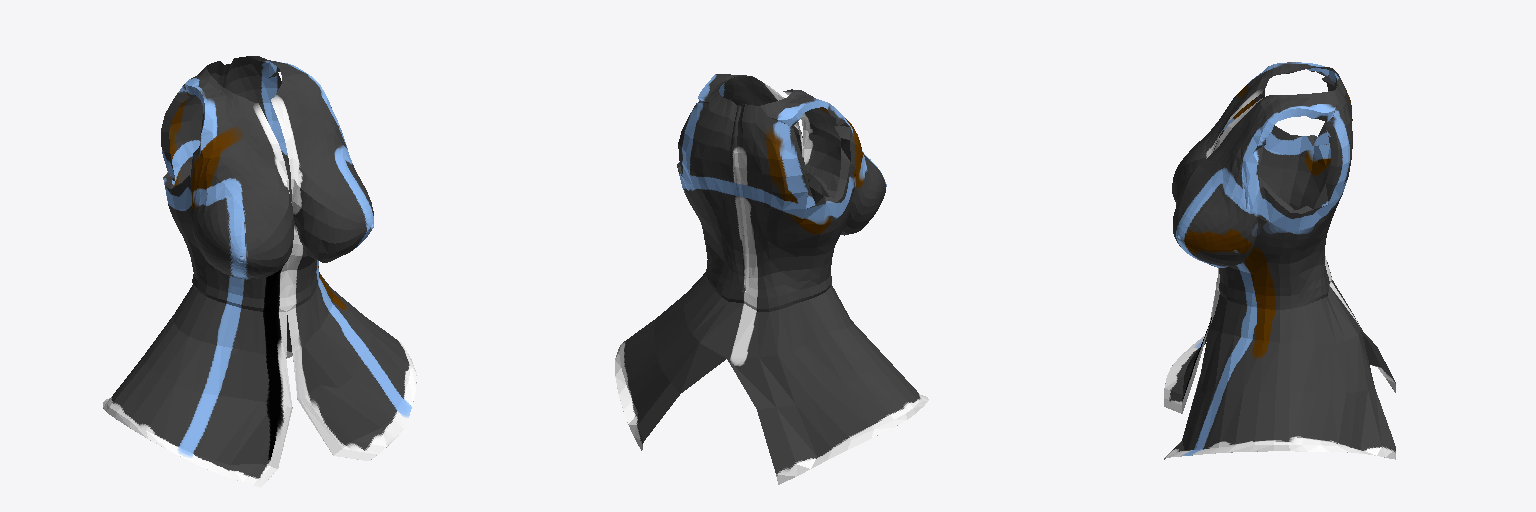
3 renders of one model, left to right at view 1: azimuth 30°, elevation 25°; view 2: azimuth 150°, elevation 25°; view 3: azimuth 270°, elevation 25°, orthographic.
Visible parts, largest first — view 1: HighPoly2 miku1:RoadKillOut_HighPoly2SmoothProxyGroup miku:RoadK; view 2: HighPoly2 miku1:RoadKillOut_HighPoly2SmoothProxyGroup miku:RoadK; view 3: HighPoly2 miku1:RoadKillOut_HighPoly2SmoothProxyGroup miku:RoadK.
Part boxes in pixels (x1,y1,x2,y2): HighPoly2 miku1:RoadKillOut_HighPoly2SmoothProxyGroup miku:RoadK: (103, 56, 416, 487); HighPoly2 miku1:RoadKillOut_HighPoly2SmoothProxyGroup miku:RoadK: (615, 74, 928, 484); HighPoly2 miku1:RoadKillOut_HighPoly2SmoothProxyGroup miku:RoadK: (1164, 62, 1395, 459).
Bounding box in the file's own units: 41.37 × 48.41 × 28.89.
Materials: 1 (1 with a texture image).